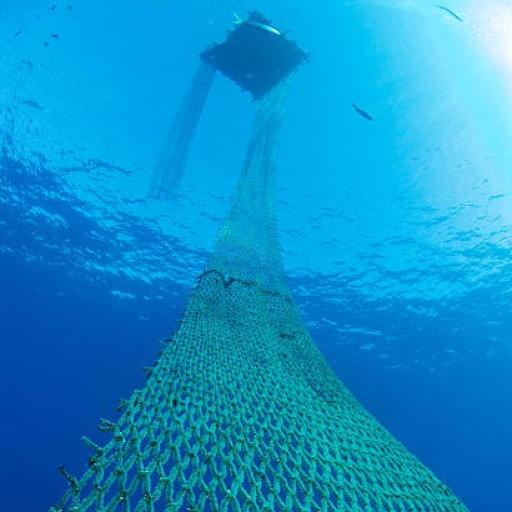net: (60, 253, 471, 512)
